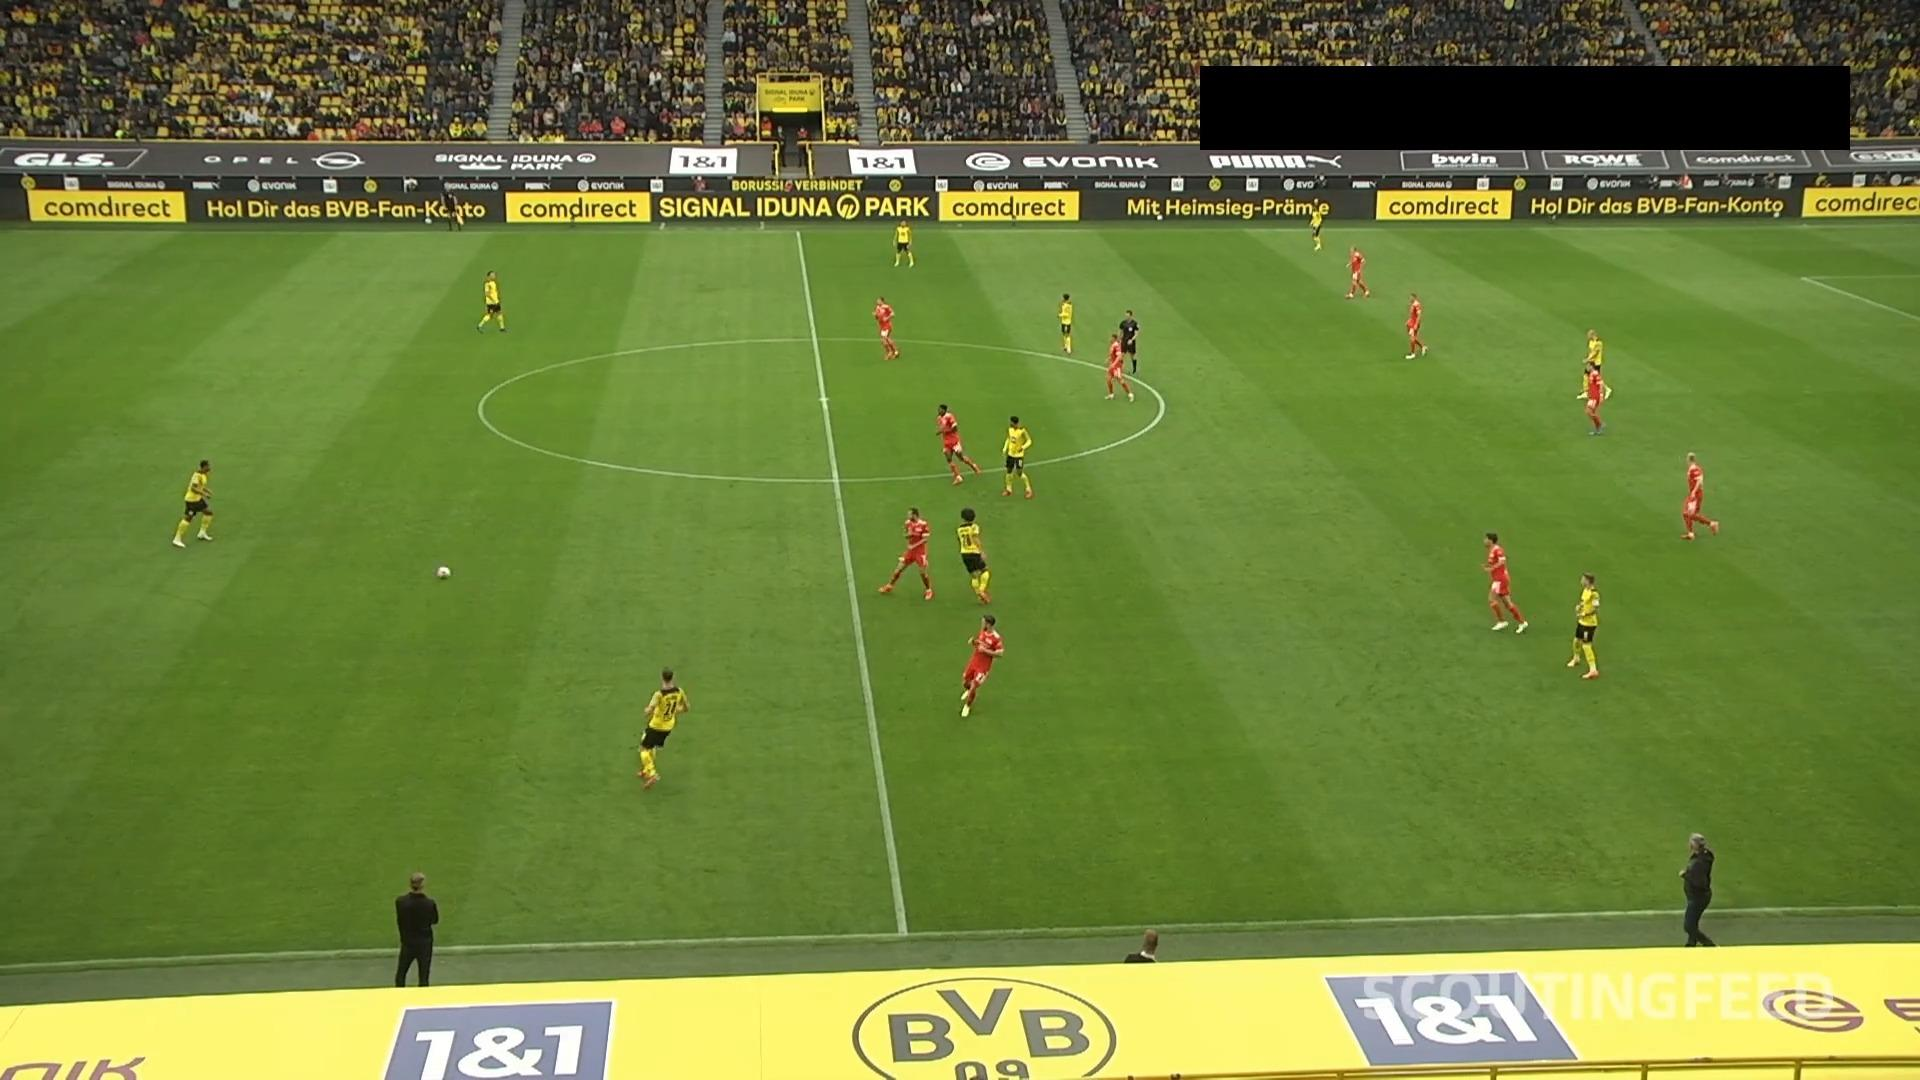ball: (434, 564, 454, 582)
